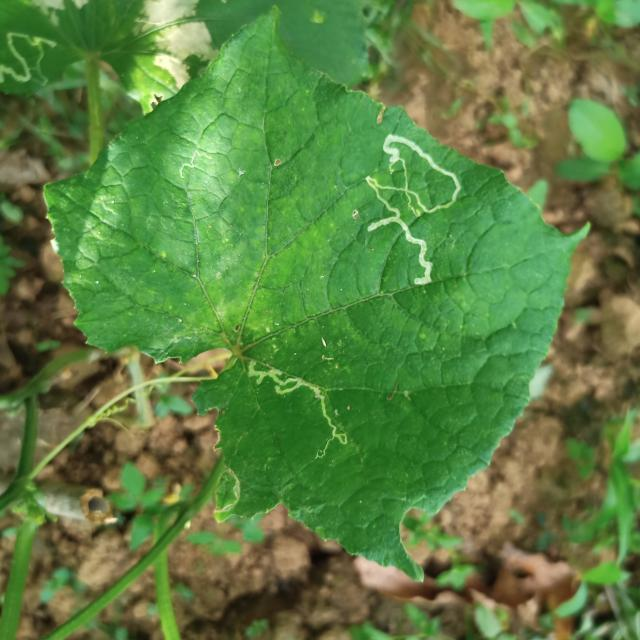disease_cucumber: (129, 0, 229, 91)
